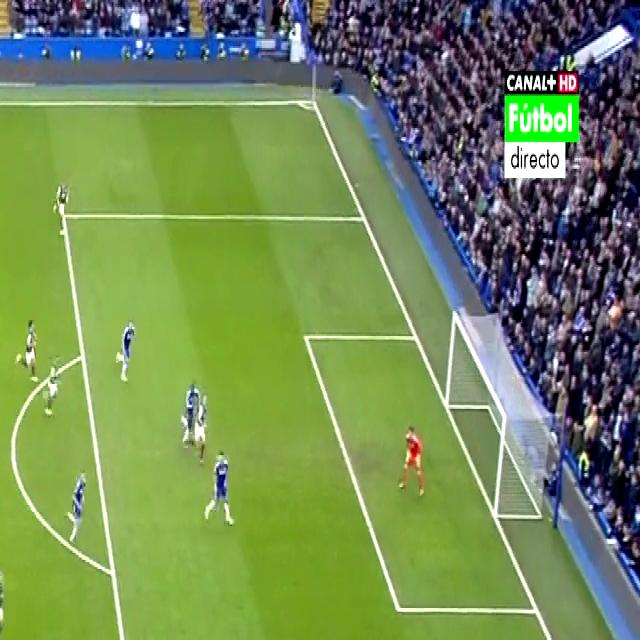goalkeeper: (397, 413, 429, 508)
soccer-player: (200, 444, 233, 530), (182, 368, 208, 459), (67, 466, 92, 544), (18, 310, 44, 380), (114, 312, 138, 386), (40, 355, 61, 424), (50, 170, 70, 241), (0, 560, 9, 640)
